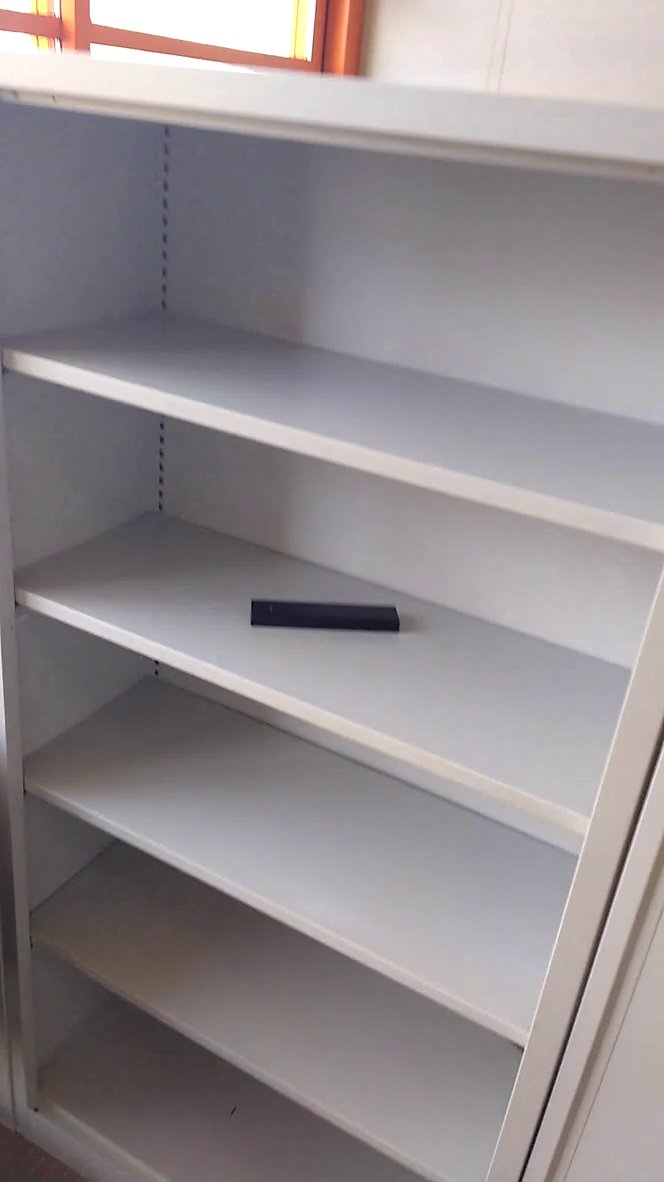remote: (238, 591, 408, 646)
